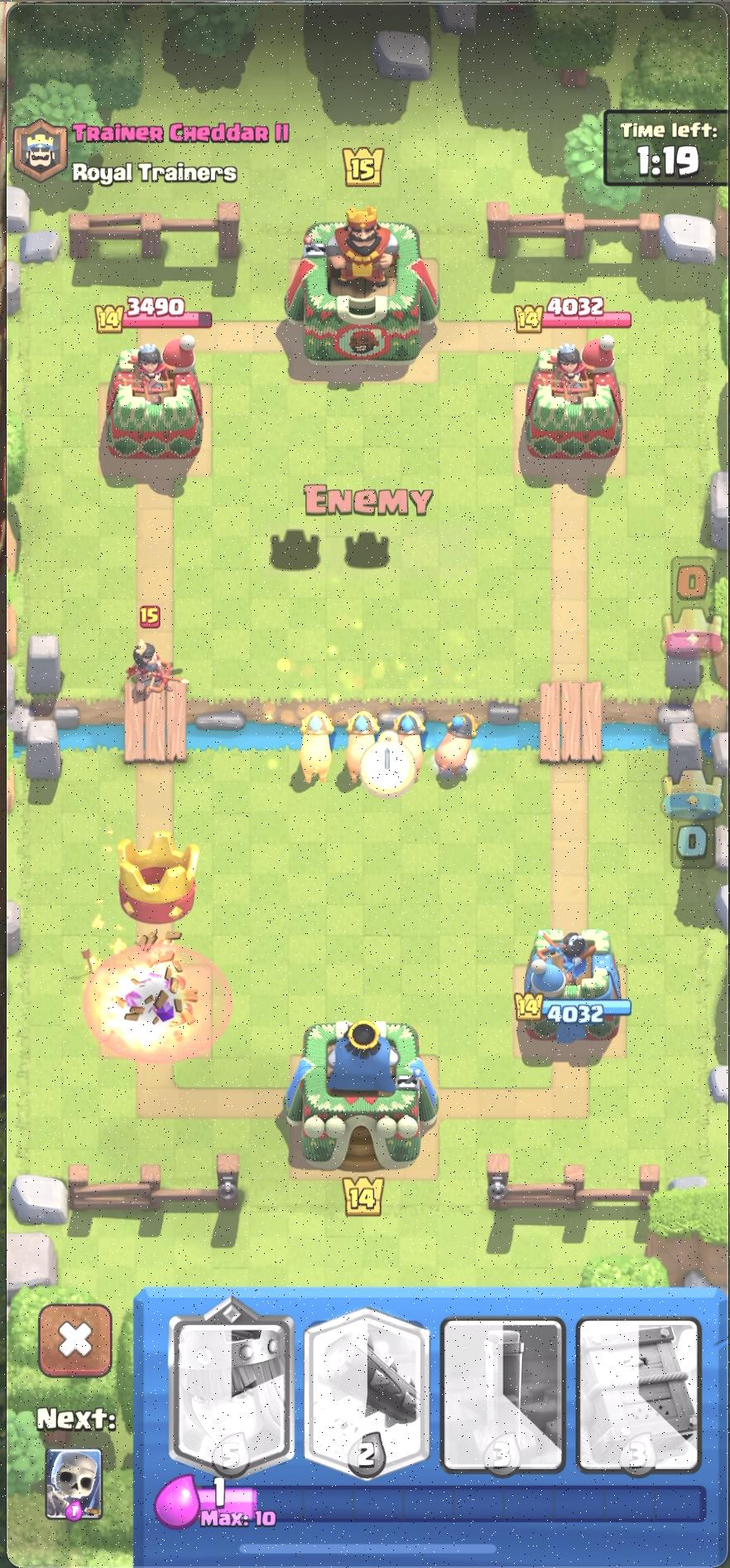card_archerqueen: (157, 1290, 300, 1477)
card_earthquake: (440, 1315, 568, 1481)
card_log: (306, 1300, 433, 1482)
card_royaldelivery: (573, 1315, 716, 1481)
card_skeletons: (40, 1444, 104, 1522)
